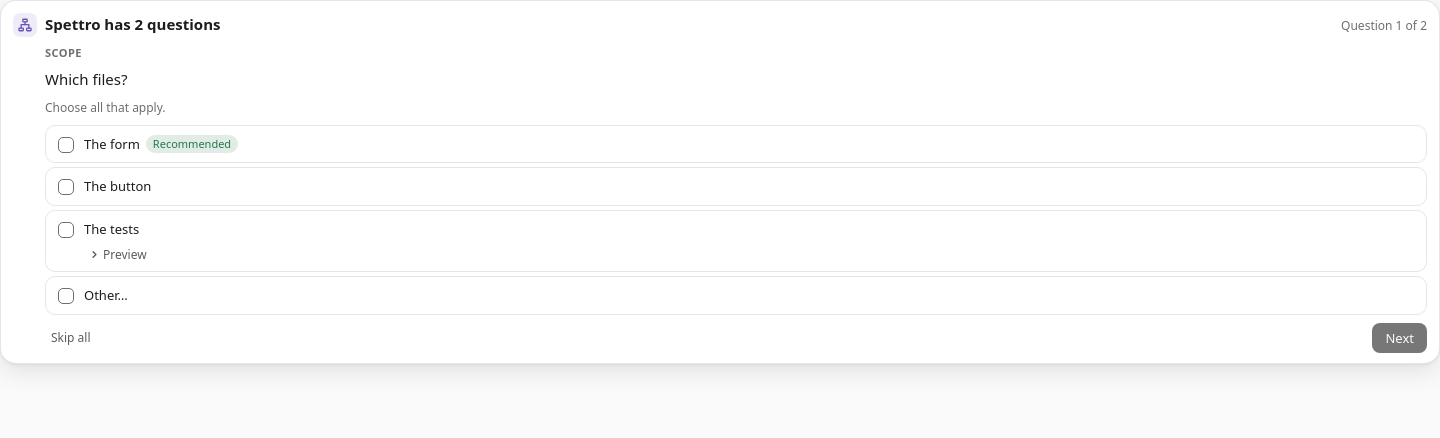
Scenario: the question card › opens a preview on request
Check: the text "it(\"saves once\")" is not shown
Click the button "Preview": (118, 254) [84,244,153,265]
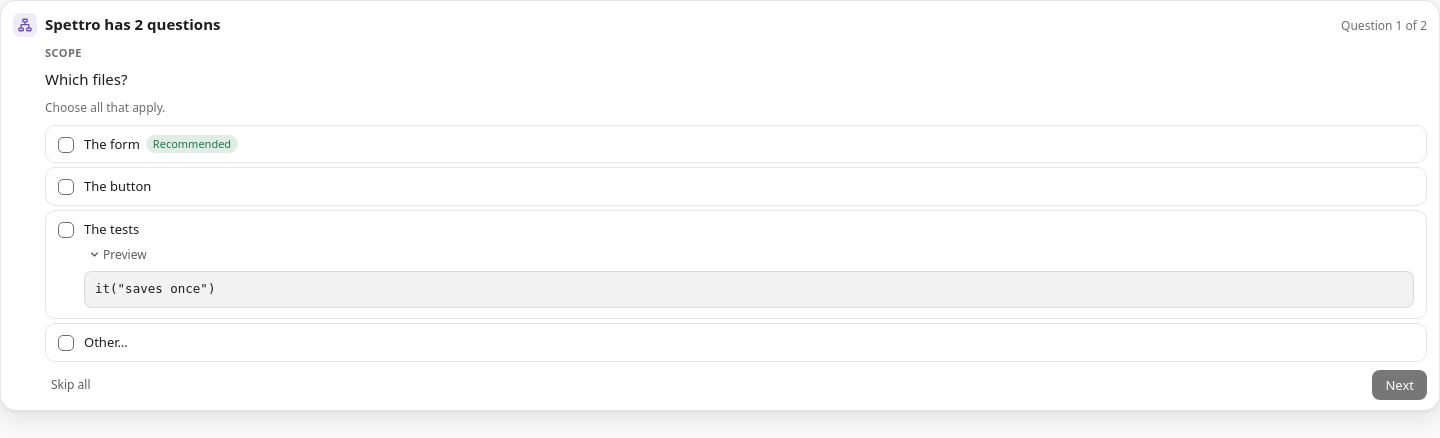
Check: the text "it(\"saves once\")" is shown, box [84,271,1414,308]
